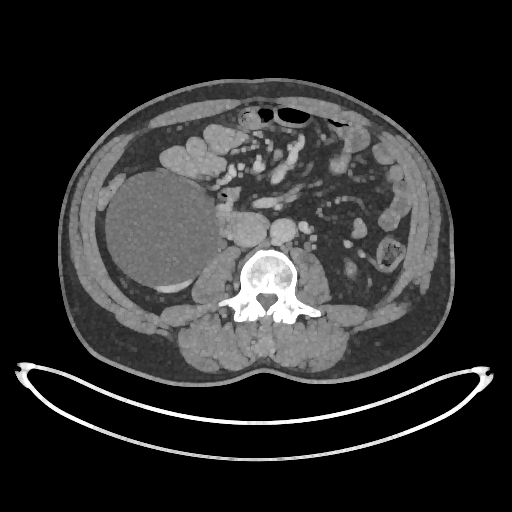Lesion: (102, 174, 222, 287)
